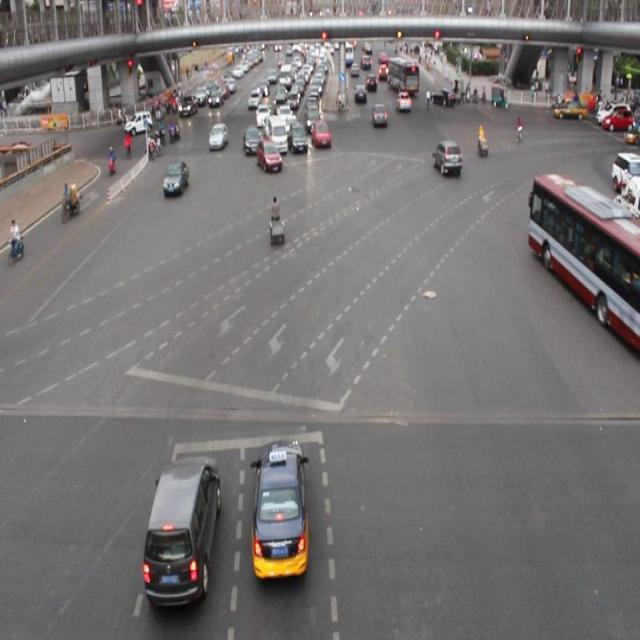car: (252, 440, 309, 582), (431, 140, 461, 175), (162, 162, 188, 194), (256, 139, 280, 172), (288, 122, 308, 157), (310, 118, 330, 150), (209, 121, 228, 152), (242, 125, 260, 156), (371, 102, 387, 129)
truck: (143, 453, 221, 609), (265, 116, 287, 154)
van: (525, 176, 640, 345)
